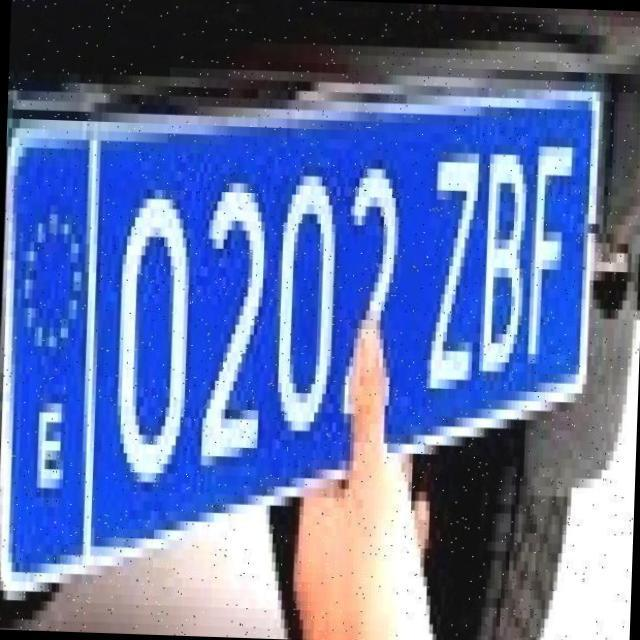License Plate: (1, 29, 624, 623)
